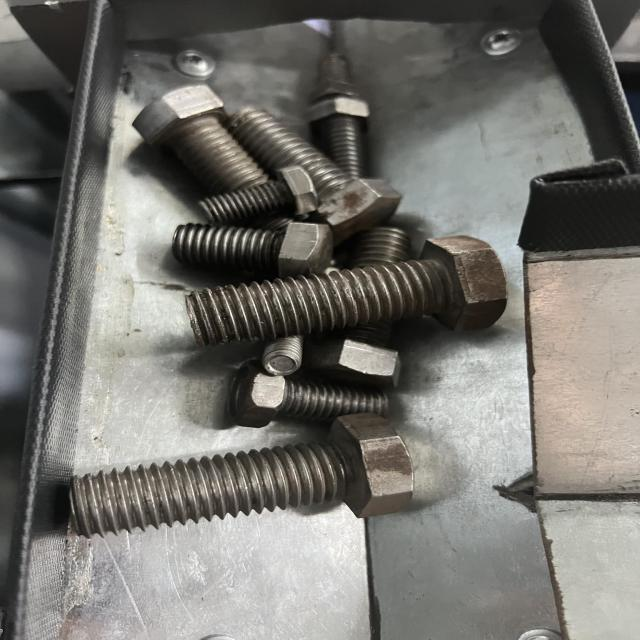bolt: (64, 412, 412, 538), (186, 234, 510, 345)
